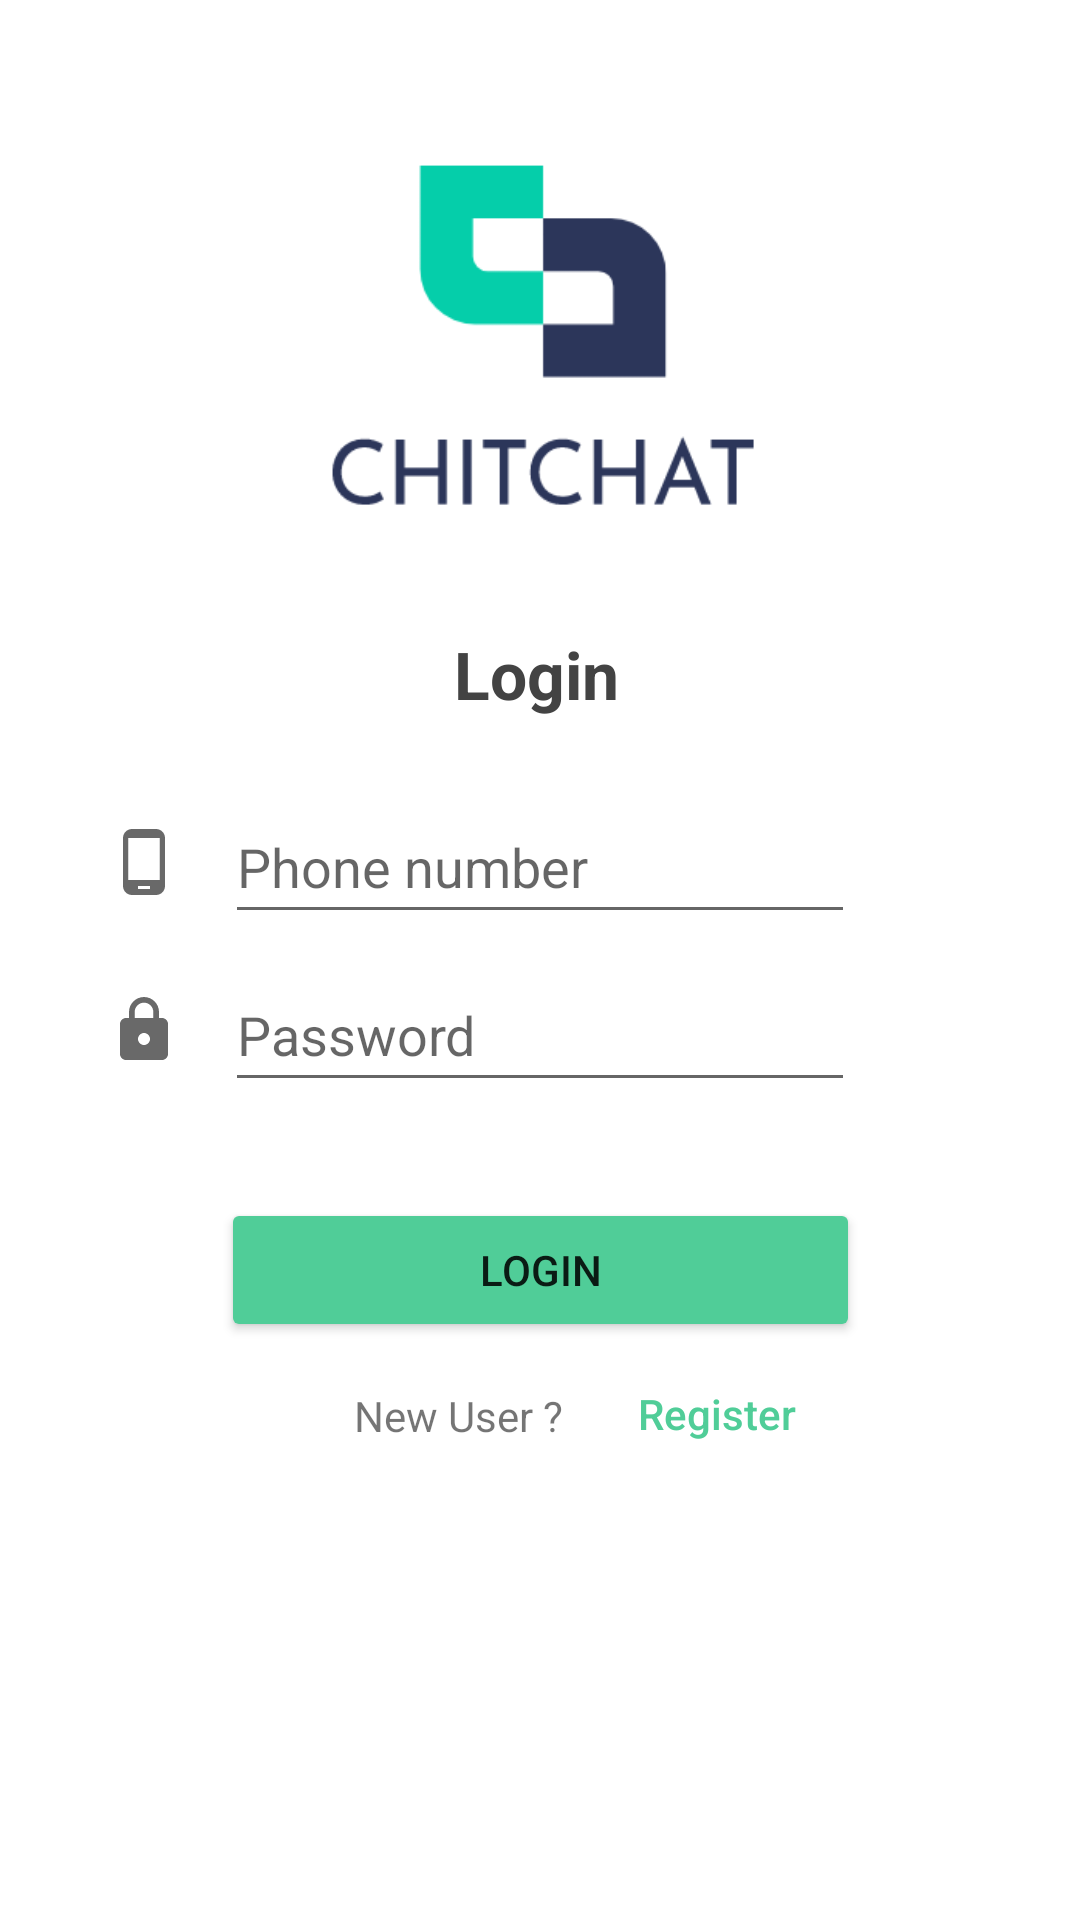

Where icons sit on this 1080x1920 app screen, as (x1, y1, x2, y2):
lock: (120, 997, 168, 1060)
phone android: (123, 829, 165, 895)
